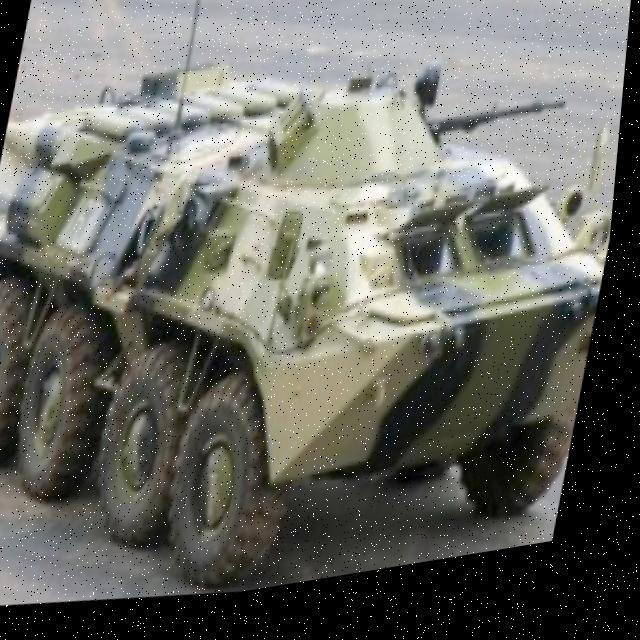MIL_APC: (0, 0, 636, 640)
